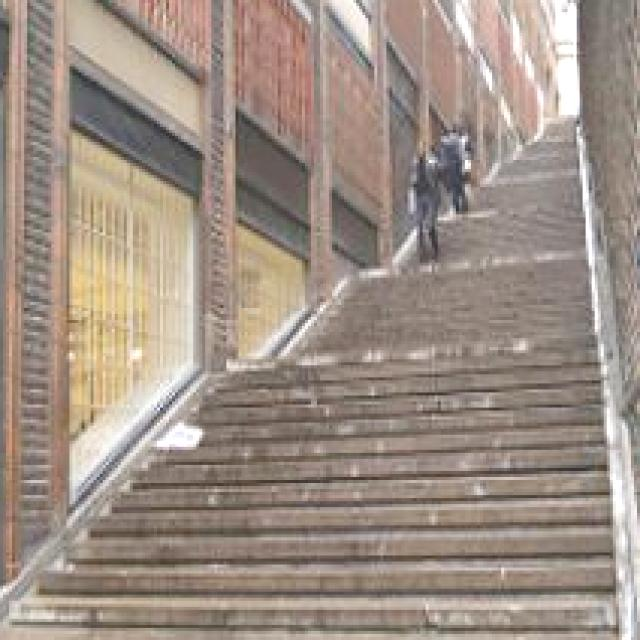upstair: (76, 411, 616, 640)
